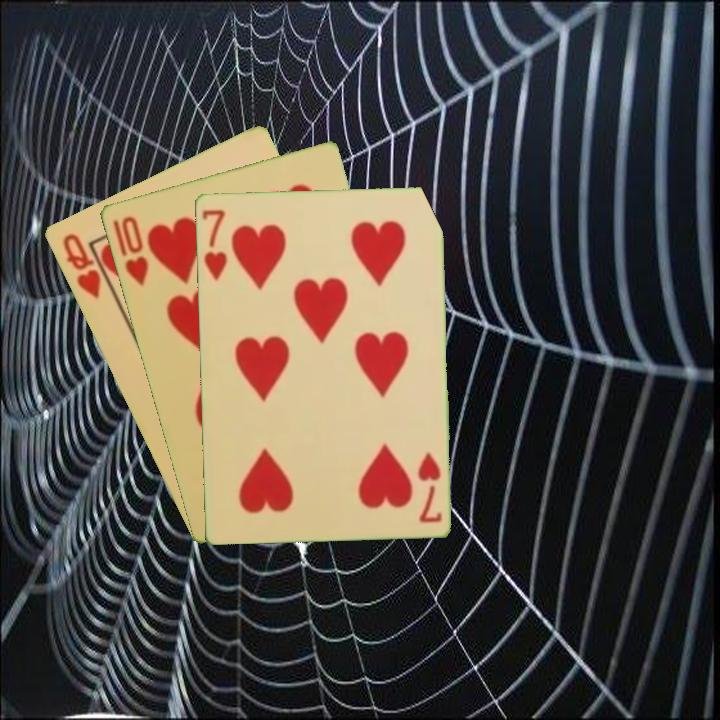10h: (117, 212, 151, 289)
7h: (198, 205, 229, 284), (414, 448, 444, 525)
Qh: (58, 229, 104, 301)
